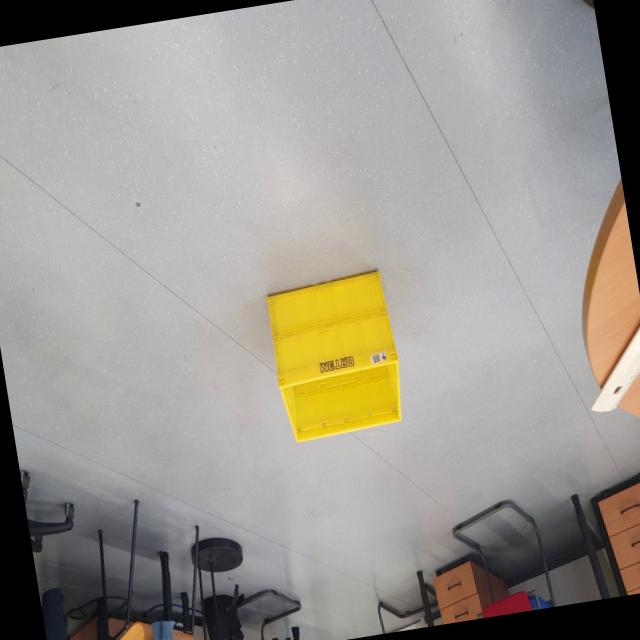box: (257, 255, 416, 462)
